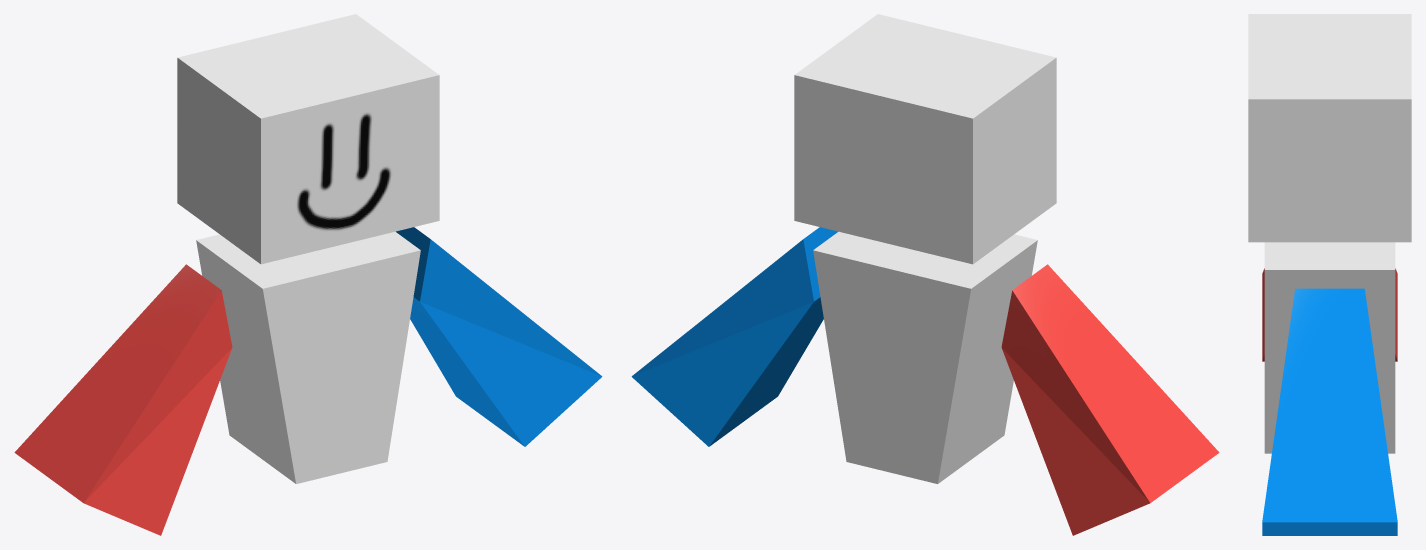
The model's file is float.obj.
3 renders of one model, left to right at view 1: azimuth 30°, elevation 25°; view 2: azimuth 150°, elevation 25°; view 3: azimuth 270°, elevation 25°, orthographic.
Parts seen in each view (by area): view 1: 立方体_立方体.003; view 2: 立方体_立方体.003; view 3: 立方体_立方体.003.
Boxes of the visible parts, bbox=[...] form: 立方体_立方体.003: bbox=[14, 14, 602, 535]; 立方体_立方体.003: bbox=[631, 14, 1219, 535]; 立方体_立方体.003: bbox=[1248, 14, 1411, 535].
Bounding box in the file's own units: 2.83 × 2.08 × 0.7886.
4 materials, 4 textured.
